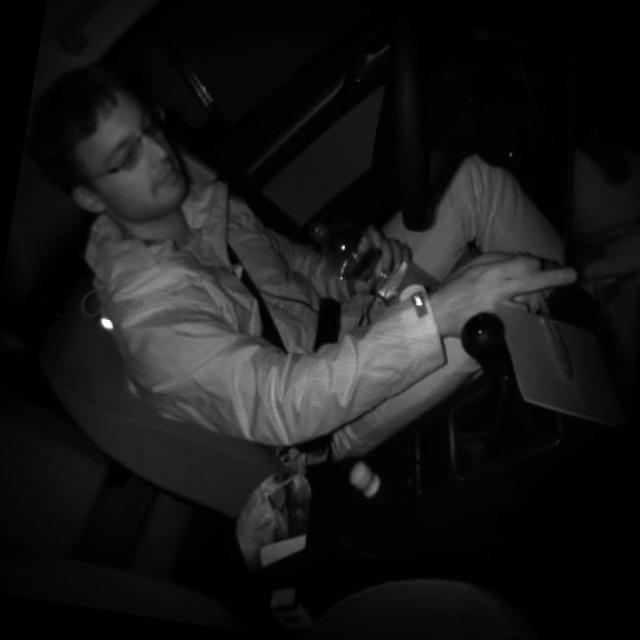pen: (524, 284, 590, 386)
